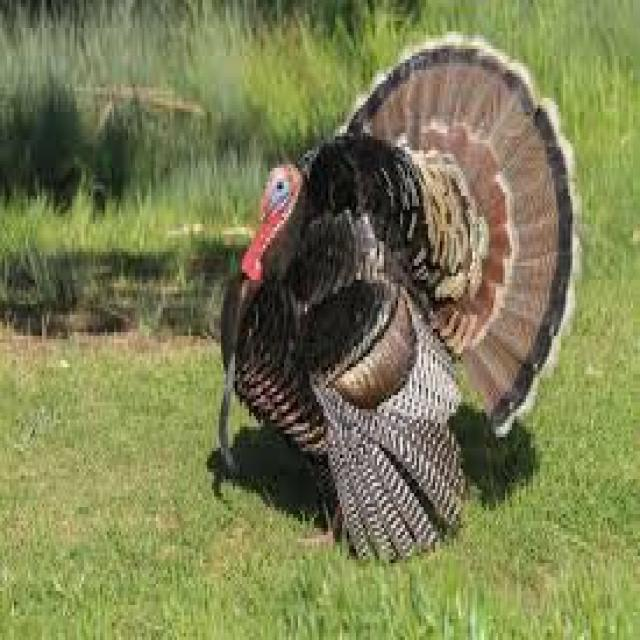Turkey: (212, 28, 584, 567)
